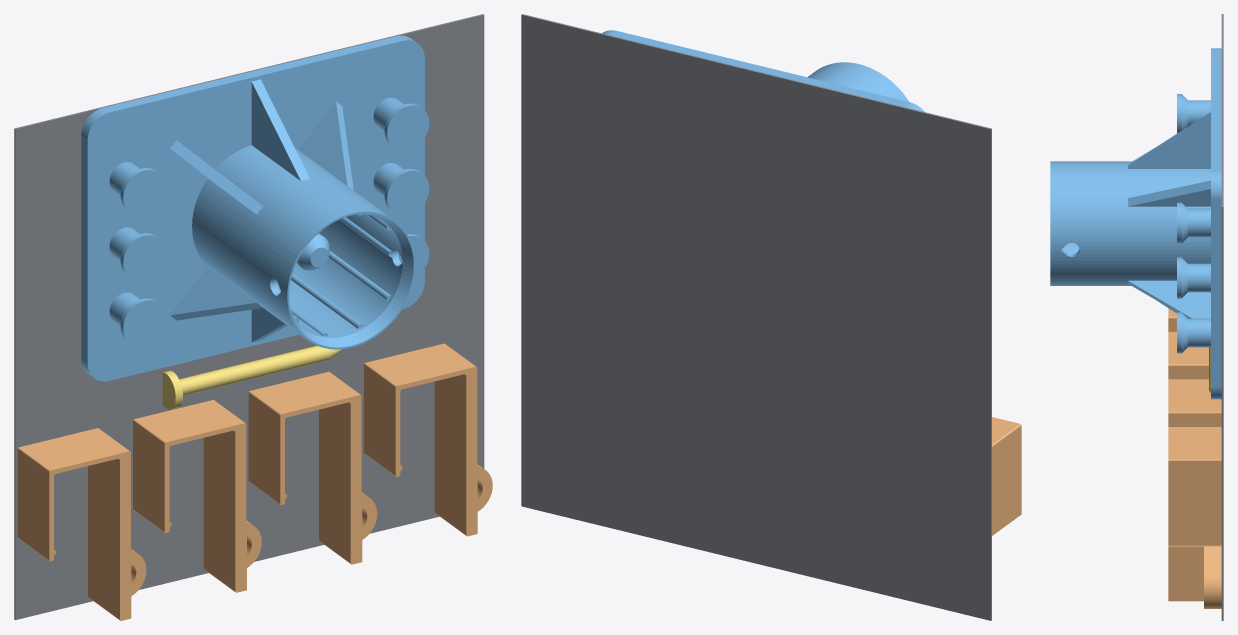
The model's file is print_layout.glb.
3 renders of one model, left to right at view 1: azimuth 30°, elevation 25°; view 2: azimuth 150°, elevation 25°; view 3: azimuth 270°, elevation 25°, orthographic. The views are drawn at different scales.
Parts seen in each view (by area): view 1: noodle_mount_0, bed, hanger_x4_1, hanger_x4_3, hanger_x4_0, hanger_x4_2, cross_pin_0; view 2: bed, noodle_mount_0, hanger_x4_0; view 3: noodle_mount_0, hanger_x4_3, hanger_x4_2, bed, hanger_x4_1.
Boxes of the visible parts, bbox=[...] form: noodle_mount_0: bbox=[81, 35, 429, 381]; bed: bbox=[14, 14, 484, 620]; hanger_x4_1: bbox=[133, 400, 261, 592]; hanger_x4_3: bbox=[364, 343, 492, 536]; hanger_x4_0: bbox=[17, 428, 146, 620]; hanger_x4_2: bbox=[248, 371, 377, 564]; cross_pin_0: bbox=[162, 345, 341, 409]; bed: bbox=[521, 14, 991, 620]; noodle_mount_0: bbox=[602, 30, 924, 111]; hanger_x4_0: bbox=[992, 417, 1021, 535]; noodle_mount_0: bbox=[1050, 48, 1221, 399]; hanger_x4_3: bbox=[1168, 427, 1221, 608]; hanger_x4_2: bbox=[1168, 379, 1221, 426]; bed: bbox=[1221, 14, 1223, 620]; hanger_x4_1: bbox=[1168, 331, 1208, 379].
Bounding box in the file's own units: 256 × 256 × 97.
